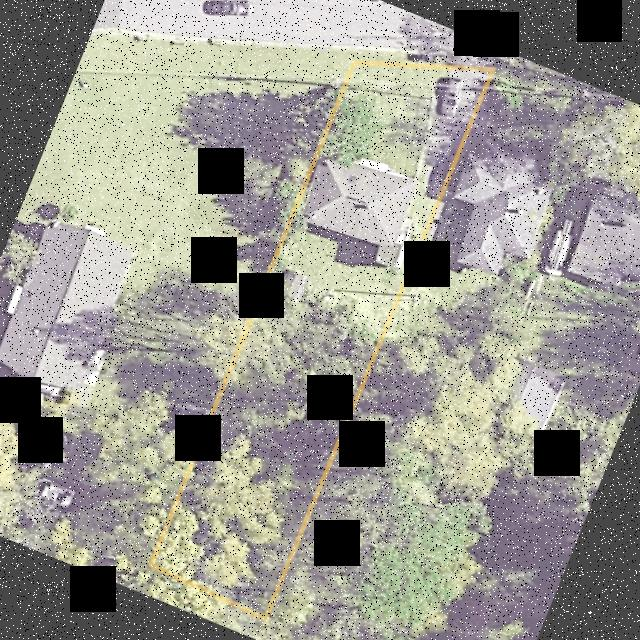Driveway: (415, 70, 486, 196)
Extra Lawn: (347, 65, 438, 97)
House: (298, 154, 420, 249)
